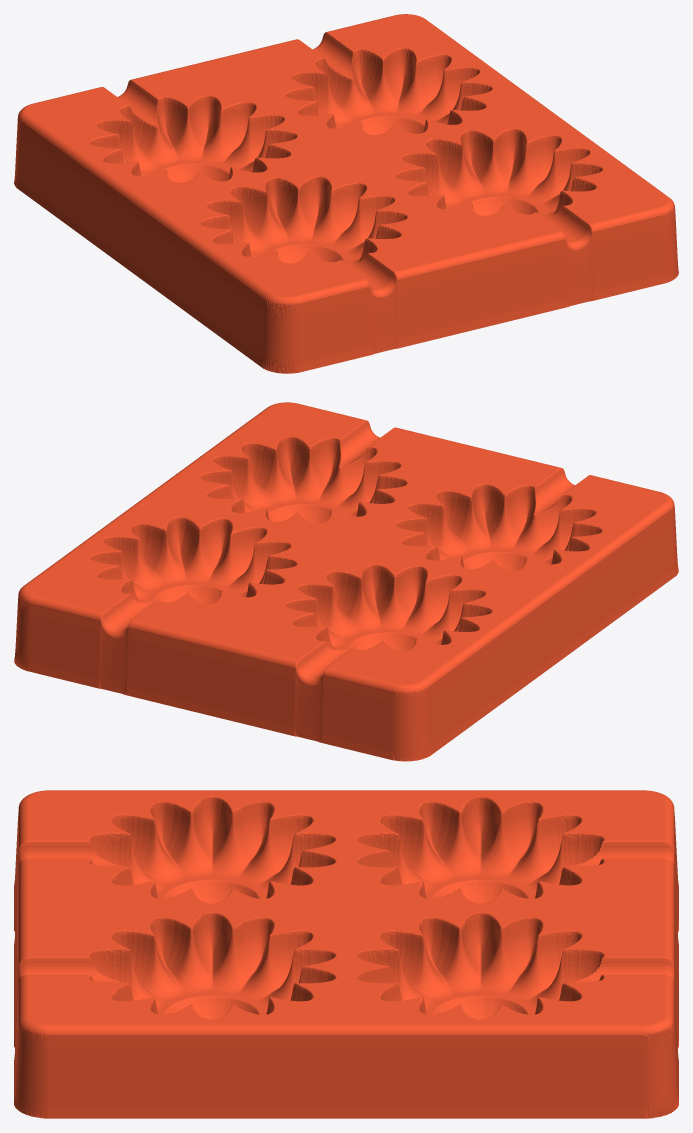
File: mold.glb
3 renders of one model, top to bottom at view 1: azimuth 30°, elevation 25°; view 2: azimuth 150°, elevation 25°; view 3: azimuth 270°, elevation 25°, orthographic. The views are drawn at different scales.
Parts seen in each view (by area): view 1: geometry_0; view 2: geometry_0; view 3: geometry_0.
Boxes of the visible parts, <box> form: geometry_0: <box>14,14,678,373</box>; geometry_0: <box>14,402,678,761</box>; geometry_0: <box>14,790,678,1118</box>.
Bounding box in the file's own units: 0.1468 × 0.0245 × 0.1681.
